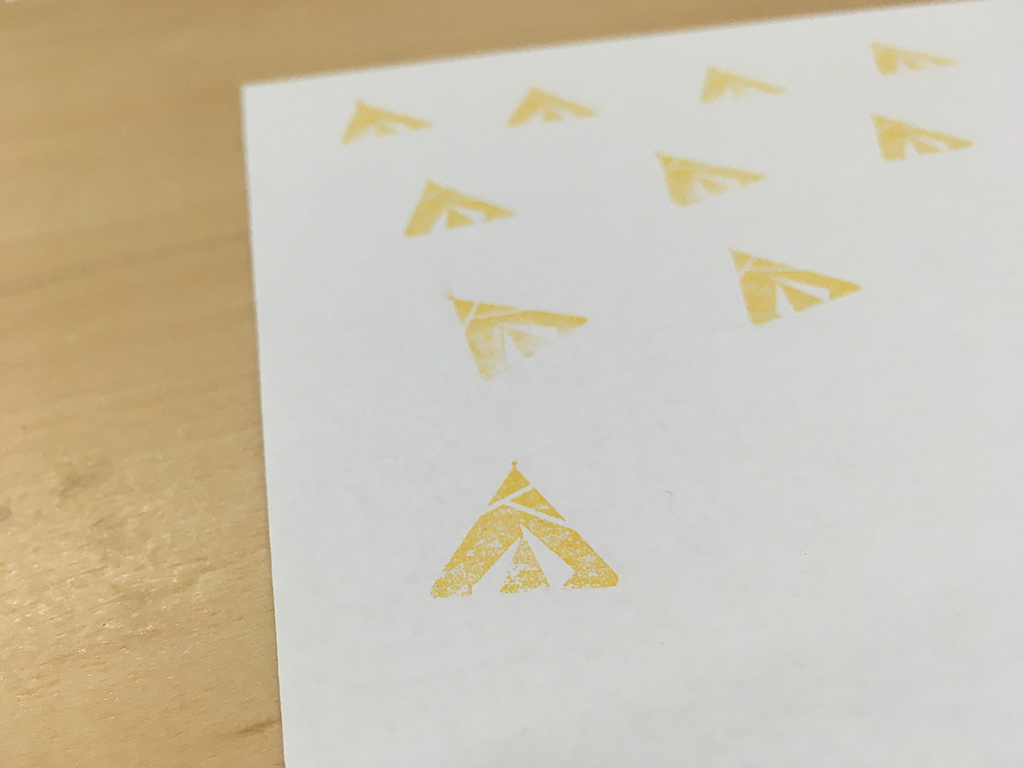tent: (421, 452, 630, 604), (442, 288, 600, 386), (723, 244, 867, 326), (400, 176, 520, 248), (651, 148, 768, 212), (865, 107, 978, 168), (336, 96, 437, 149), (502, 81, 603, 132), (695, 63, 793, 113), (865, 40, 964, 83)
